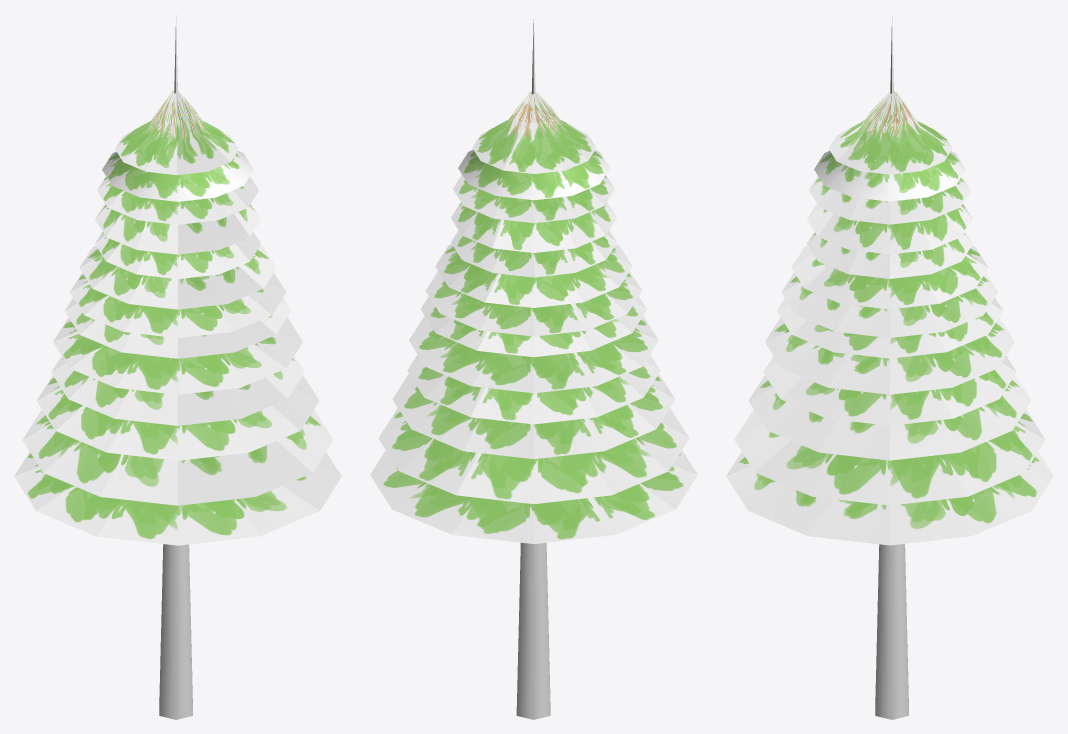
File: Envi_Tree01.FBX
3 renders of one model, left to right at view 1: azimuth 30°, elevation 25°; view 2: azimuth 150°, elevation 25°; view 3: azimuth 270°, elevation 25°, orthographic.
Visible parts, largest first — view 1: Envi_Tree01; view 2: Envi_Tree01; view 3: Envi_Tree01.
Boxes of the visible parts, x1,y1,x2,y2 form: Envi_Tree01: [14, 15, 341, 719]; Envi_Tree01: [370, 19, 697, 719]; Envi_Tree01: [726, 15, 1053, 719].
Bounding box in the file's own units: 402 × 943 × 402.
